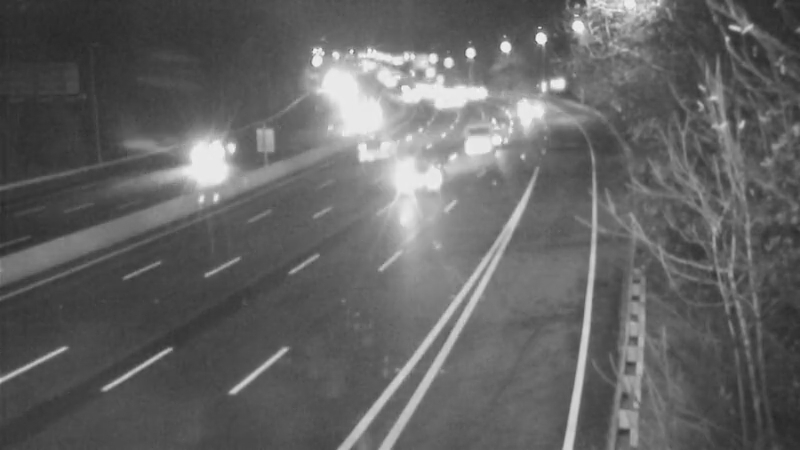vehicle: (377, 138, 457, 218), (164, 114, 244, 194), (453, 65, 503, 115), (388, 71, 438, 121), (414, 77, 464, 127), (501, 83, 551, 133), (455, 109, 505, 159), (351, 119, 401, 169), (341, 86, 391, 136)
